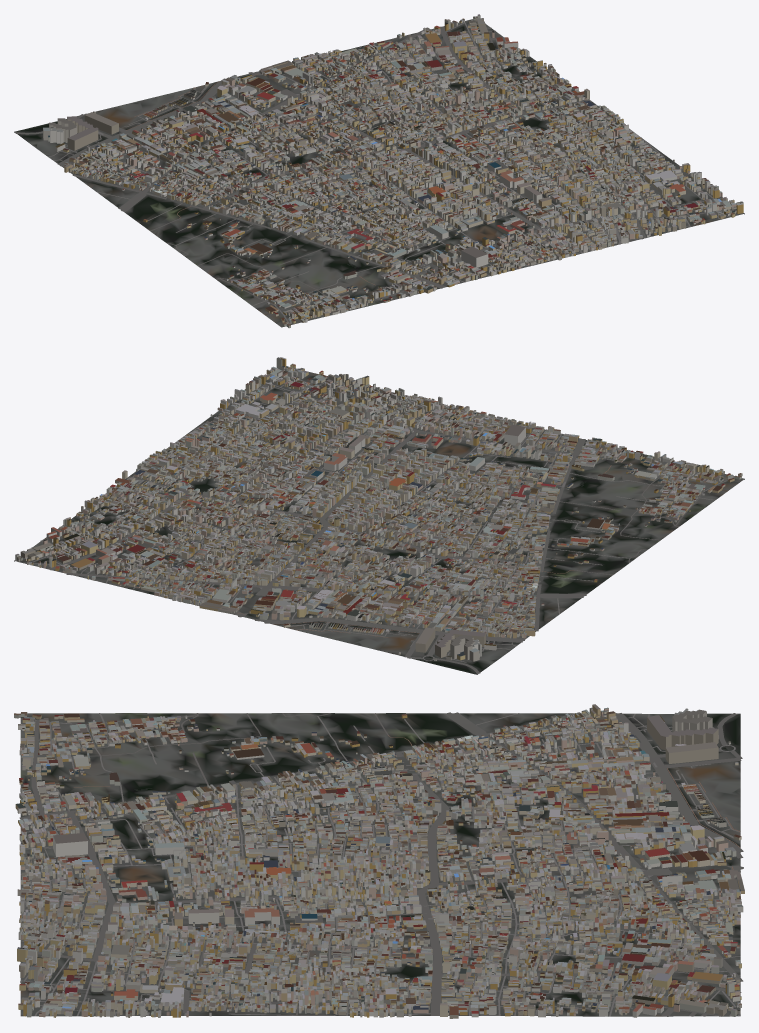
3 views of the same model, one above another, from view 1: azimuth 30°, elevation 25°; view 2: azimuth 150°, elevation 25°; view 3: azimuth 270°, elevation 25° (orthographic). The views are drawn at different scales.
Parts seen in each view (by area): view 1: buildings, ground, roads; view 2: buildings, ground, roads; view 3: buildings, ground, roads.
Boxes of the visible parts, x1,y1,x2,y2 form: buildings: [43, 14, 743, 328]; ground: [14, 19, 744, 327]; roads: [15, 21, 733, 323]; buildings: [15, 357, 742, 661]; ground: [14, 368, 744, 674]; roads: [15, 369, 734, 673]; buildings: [14, 704, 744, 1018]; ground: [20, 713, 740, 1016]; roads: [19, 712, 743, 1016].
Size of the model in its own units: 1423 by 40.97 by 1422.
